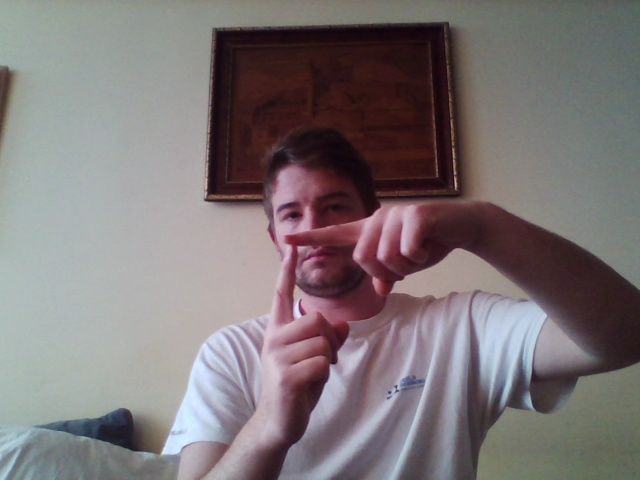kad: (258, 201, 469, 442)
